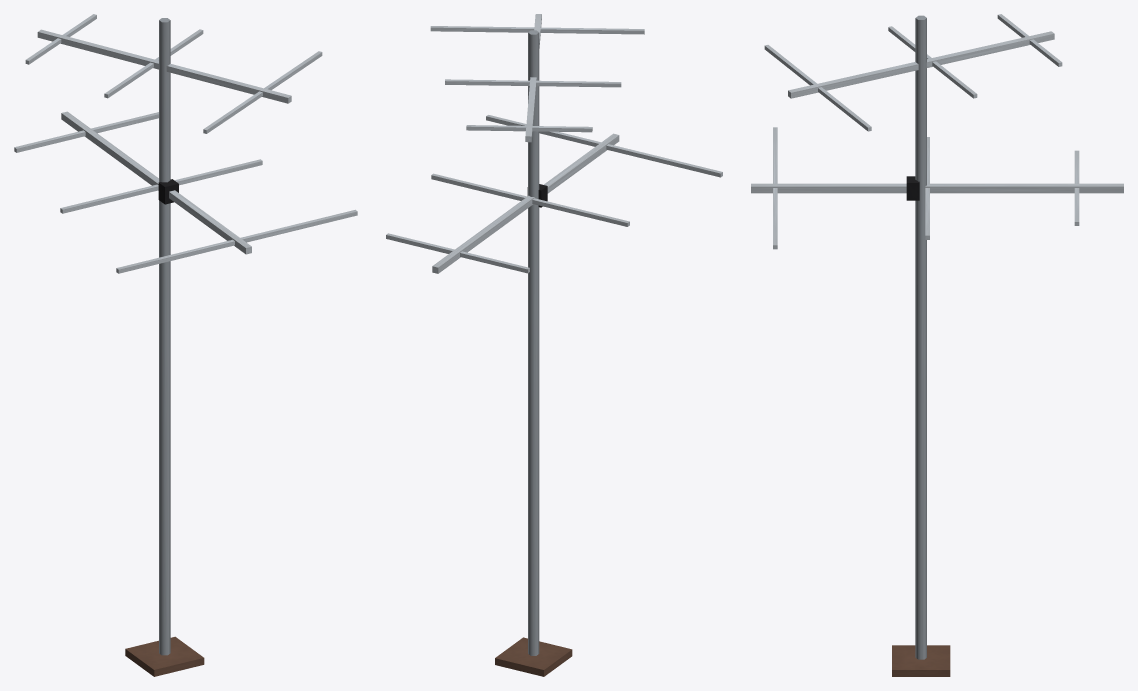
File: FK_TvAntenna.fbx
3 renders of one model, left to right at view 1: azimuth 30°, elevation 25°; view 2: azimuth 150°, elevation 25°; view 3: azimuth 270°, elevation 25°, orthographic. The views are drawn at different scales.
Visible parts, largest first — view 1: FK_TvAntenna; view 2: FK_TvAntenna; view 3: FK_TvAntenna.
Boxes of the visible parts, left/top/right/bottom form: FK_TvAntenna: left=14, top=14, right=357, bottom=676; FK_TvAntenna: left=386, top=14, right=722, bottom=676; FK_TvAntenna: left=751, top=14, right=1123, bottom=676.
Size of the model in its own units: 0.9023 by 2.2 by 1.15.
Materials: 1 (1 with a texture image).
